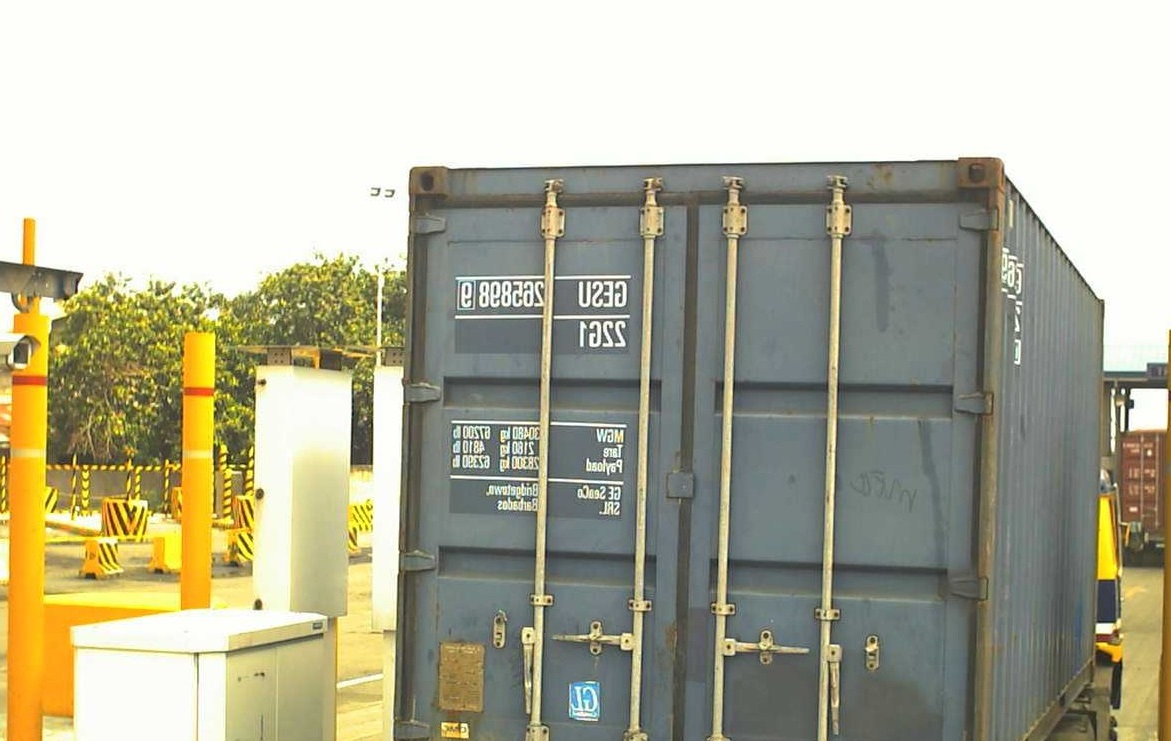container_door: (404, 157, 997, 740)
